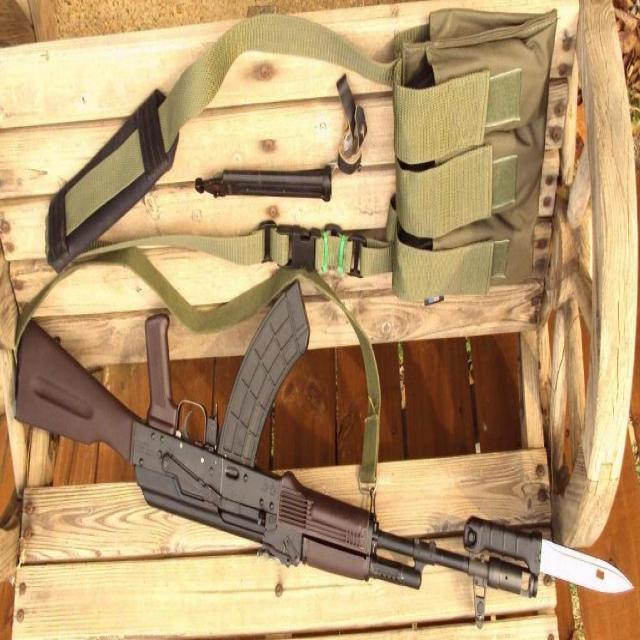weapon: (14, 278, 634, 632)
